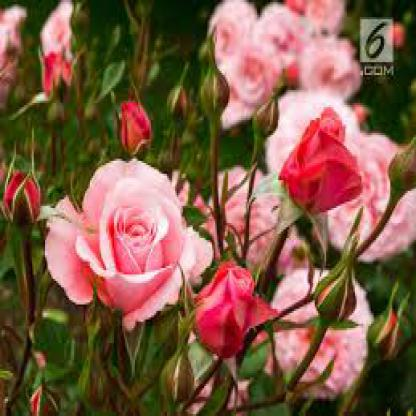Rose-Mawar: (1, 6, 364, 362)
